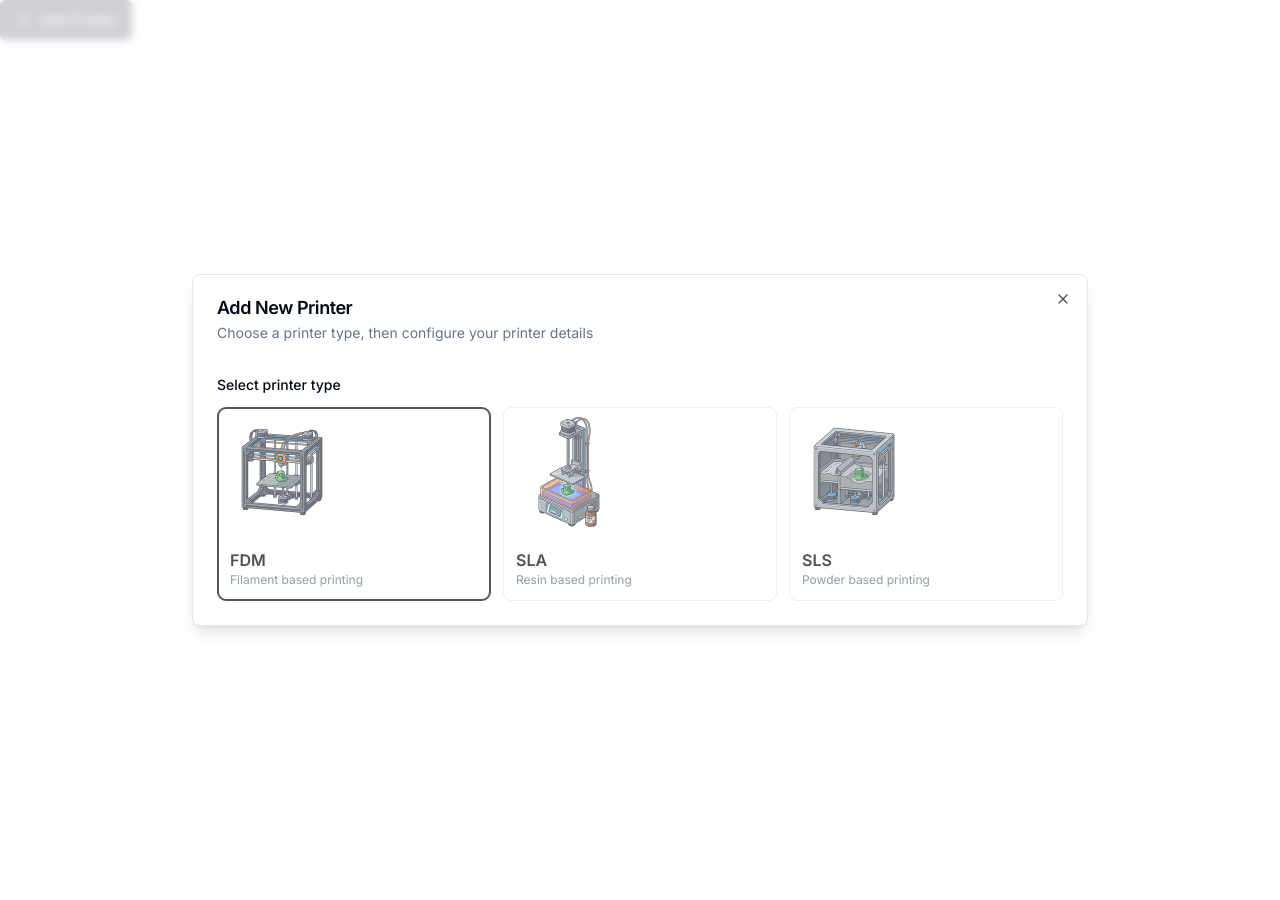
Test: CreatePrinterDialog wizard flow › switches back to type selection
This screenshot has width=1280, height=900.
Click the button with aria-label "select fdm printer type": coordinates (282, 472) x1=217 y1=407 x2=491 y2=601
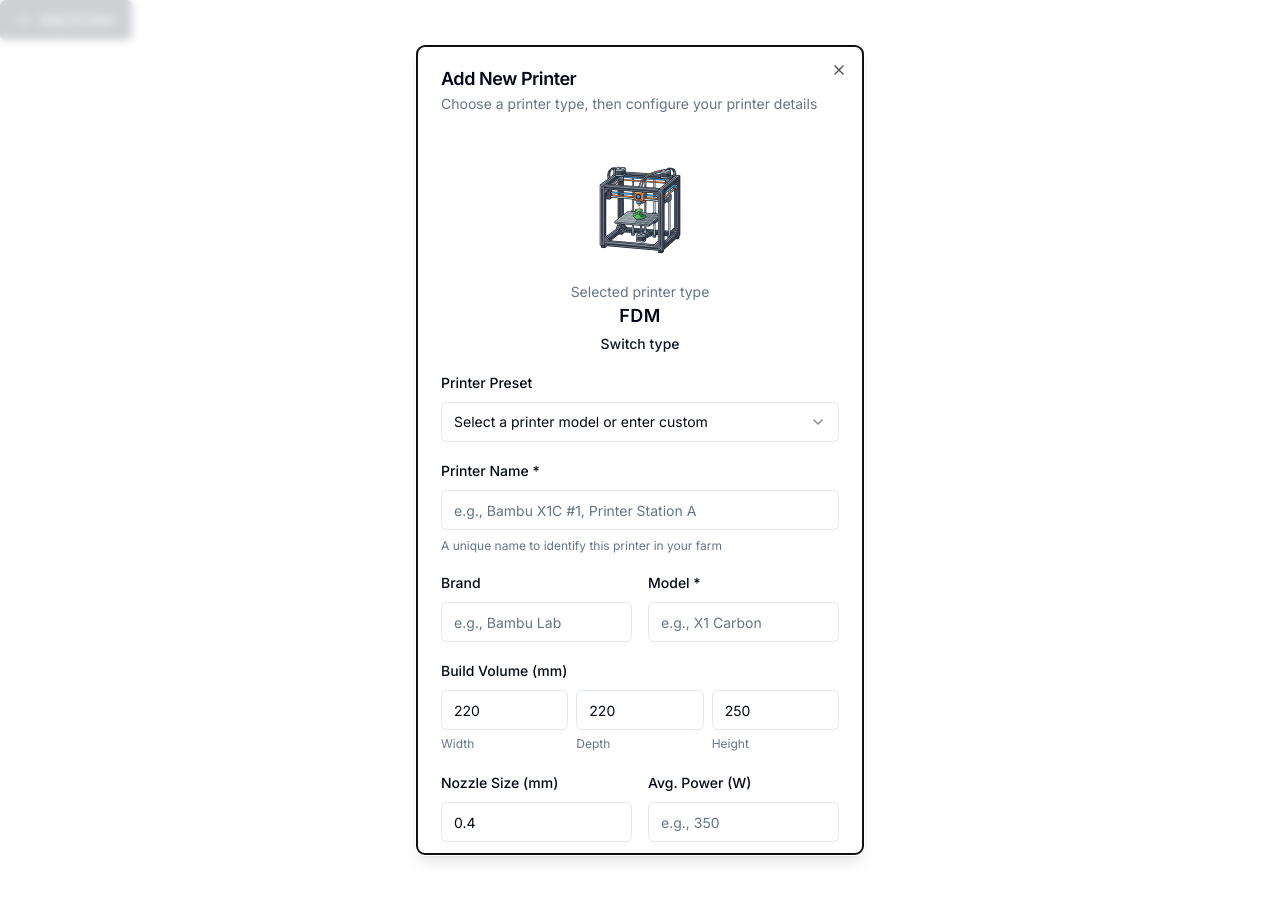
Result: the button "Switch type" is shown
Click the button "Switch type": coordinates (640, 344) x1=600 y1=334 x2=680 y2=354
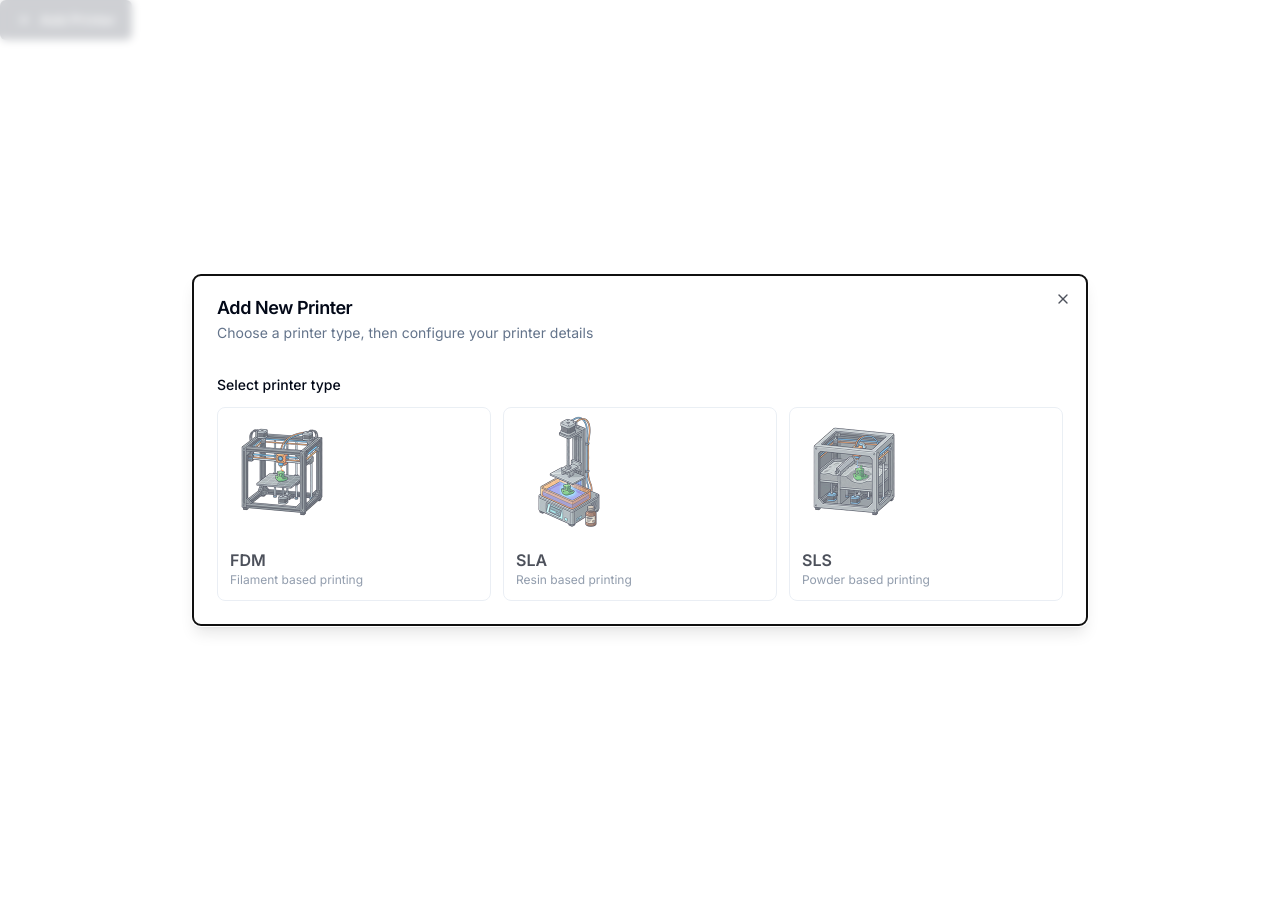
Result: the button with aria-label "select fdm printer type" is shown at x1=217 y1=407 x2=491 y2=601
Result: the button with aria-label "select sla printer type" is shown at x1=503 y1=407 x2=777 y2=601
Result: the button with aria-label "select sls printer type" is shown at x1=789 y1=407 x2=1063 y2=601
